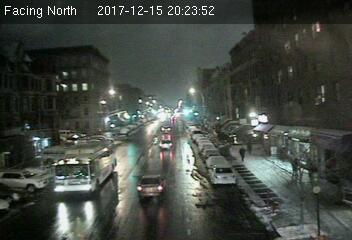bus: (54, 138, 119, 196)
car: (136, 175, 167, 196), (209, 165, 235, 183), (159, 138, 174, 150)
